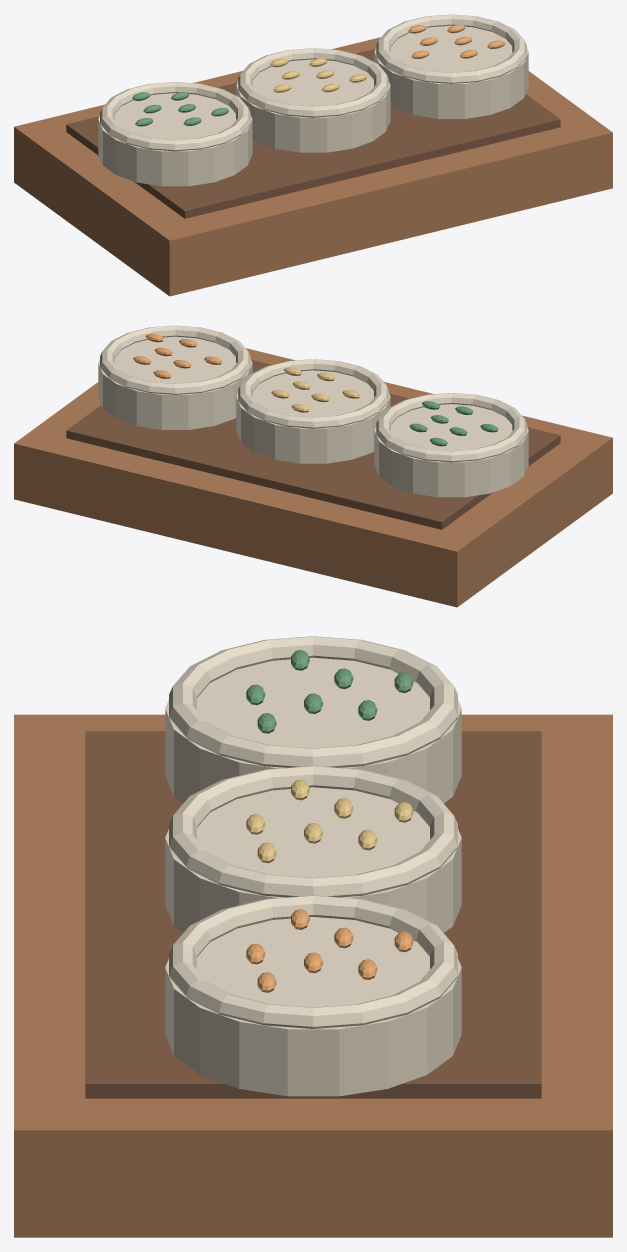
File: garnish_kit.glb
3 renders of one model, top to bottom at view 1: azimuth 30°, elevation 25°; view 2: azimuth 150°, elevation 25°; view 3: azimuth 270°, elevation 25°, orthographic. The views are drawn at different scales.
Parts seen in each view (by area): view 1: garnish_preparation_board_body, garnish_preparation_board_inset, garnish_bowl_0, garnish_bowl_1, garnish_bowl_2, garnish_bowl_lip_0, garnish_bowl_lip_1, garnish_bowl_lip_2; view 2: garnish_preparation_board_body, garnish_preparation_board_inset, garnish_bowl_0, garnish_bowl_2, garnish_bowl_1, garnish_bowl_lip_0, garnish_bowl_lip_1, garnish_bowl_lip_2; view 3: garnish_preparation_board_body, garnish_preparation_board_inset, garnish_bowl_2, garnish_bowl_1, garnish_bowl_0, garnish_bowl_lip_2, garnish_bowl_lip_0, garnish_bowl_lip_1.
Part boxes in pixels (x1,y1,x2,y2): garnish_preparation_board_body: (14, 37, 612, 296); garnish_preparation_board_inset: (66, 49, 560, 218); garnish_bowl_0: (98, 93, 252, 186); garnish_bowl_1: (236, 59, 390, 152); garnish_bowl_2: (374, 25, 528, 118); garnish_bowl_lip_0: (100, 82, 250, 151); garnish_bowl_lip_1: (238, 48, 388, 117); garnish_bowl_lip_2: (376, 14, 526, 83); garnish_preparation_board_body: (14, 348, 612, 607); garnish_preparation_board_inset: (66, 360, 560, 529); garnish_bowl_0: (374, 404, 528, 497); garnish_bowl_2: (98, 336, 252, 429); garnish_bowl_1: (236, 370, 390, 463); garnish_bowl_lip_0: (376, 393, 526, 462); garnish_bowl_lip_1: (238, 359, 388, 428); garnish_bowl_lip_2: (100, 325, 250, 394); garnish_preparation_board_body: (14, 714, 612, 1237); garnish_preparation_board_inset: (85, 731, 541, 1098); garnish_bowl_2: (165, 917, 461, 1096); garnish_bowl_1: (165, 787, 461, 932); garnish_bowl_0: (165, 657, 461, 803); garnish_bowl_lip_2: (169, 895, 457, 1028); garnish_bowl_lip_0: (169, 636, 457, 767); garnish_bowl_lip_1: (169, 766, 457, 897).
Size of the model in its own units: 0.69 by 0.1655 by 0.42.
